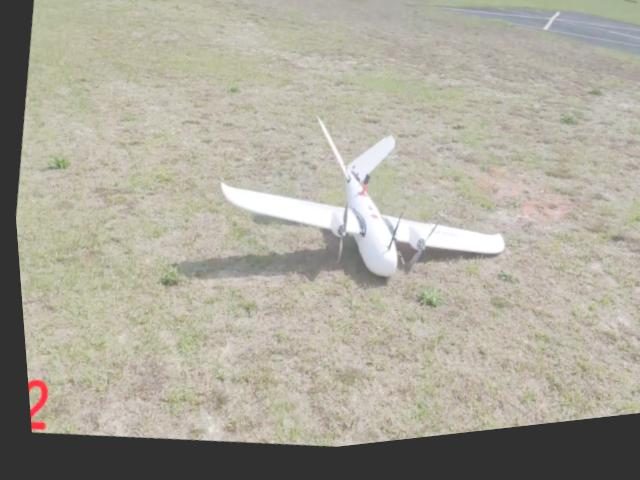plane: (199, 92, 522, 319)
